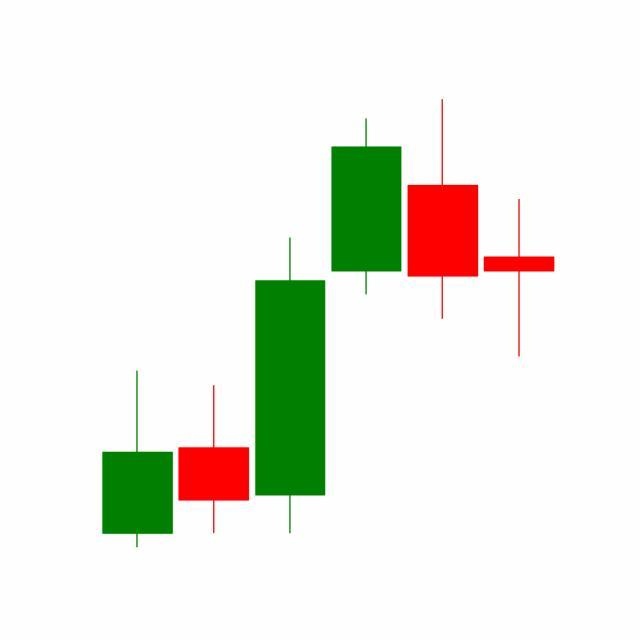Tasuki Gap: (252, 99, 482, 539)
